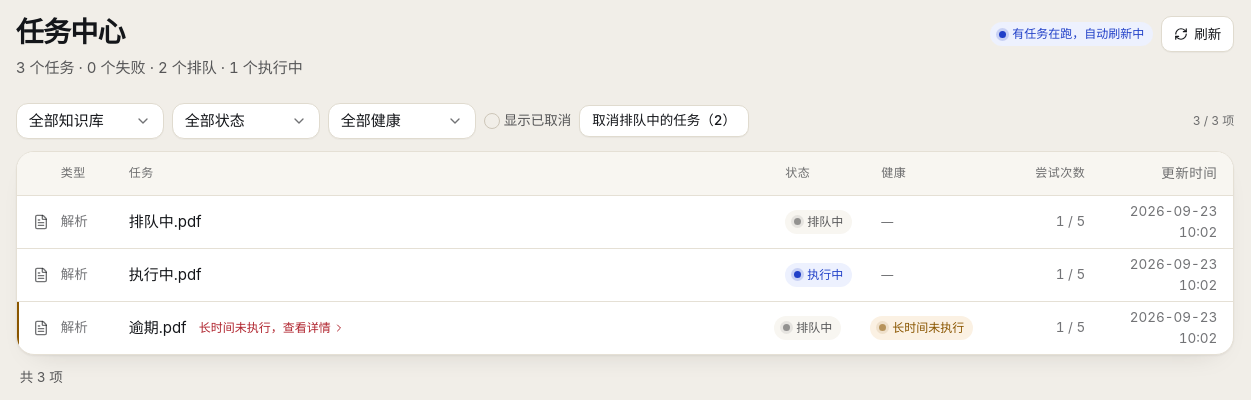
任务中心 › 「按健康筛选」与健康列同一套词：无异常 / 可能卡住 / 长时间未执行（第六批）
Check: the text "排队中.pdf" is shown, box 129,210 -> 202,234
Note: 选项不再把状态筛选那两个词搬过来（搬过来就又变成"两列同词"）
What coordinates should you click on to do the following:
click the dropdown named "按健康筛选"
I would click on:
 (402, 121)
Its box is 328,103 -> 476,139.
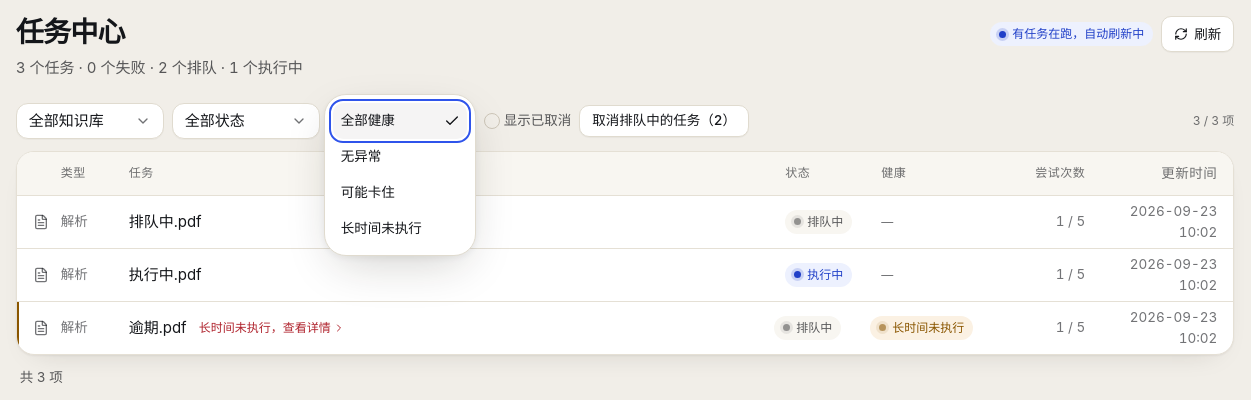
Check: the option "无异常" is shown
What coordinates should you click on to do the following:
click the option "无异常"
I would click on:
 (361, 156)
Its box is 341,148 -> 381,164.
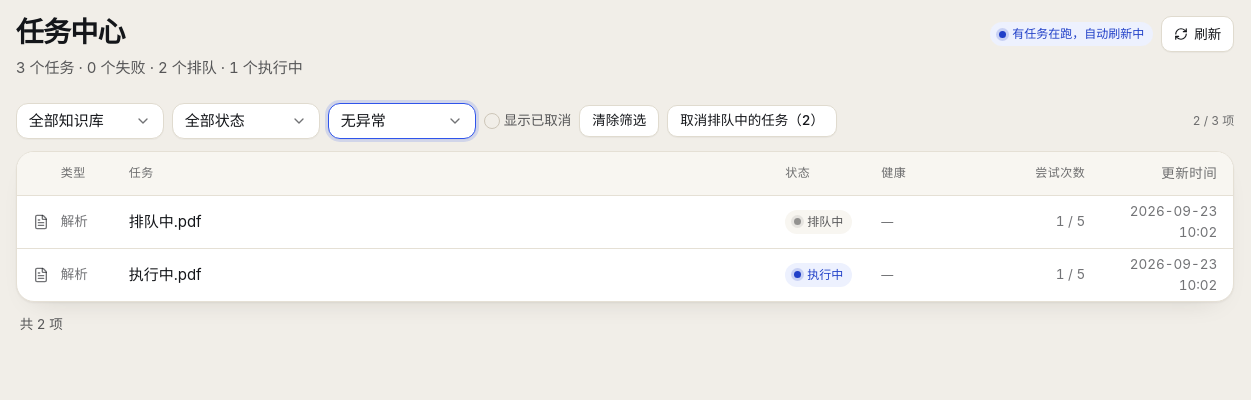
Check: the text "排队中.pdf" is shown, box 129,210 -> 202,234
Check: the button "逾期.pdf" is gone
